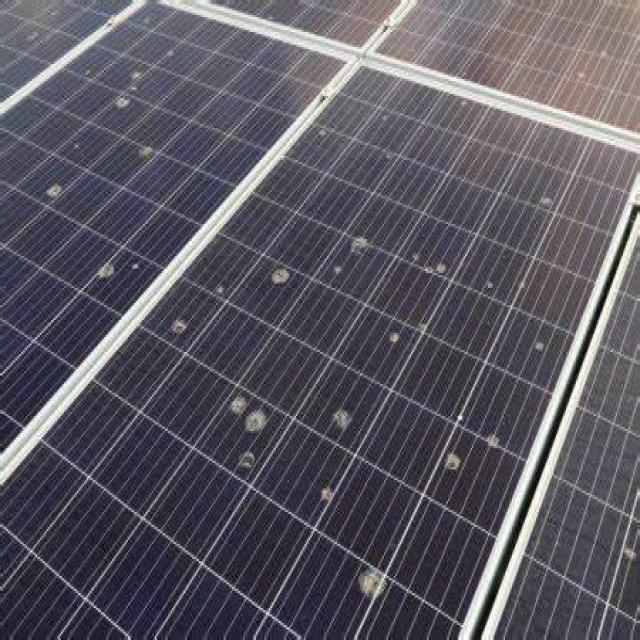soiled: (1, 2, 603, 640)
